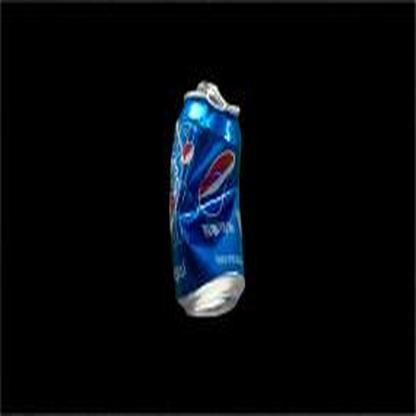can: (167, 81, 249, 317)
